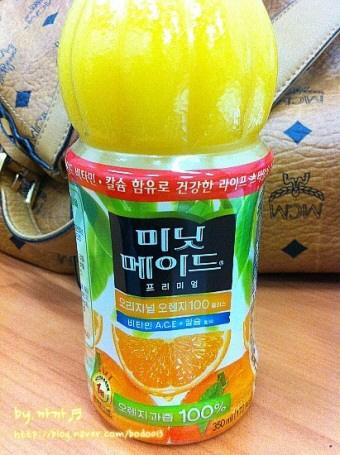minutemaid_org_orange: (59, 0, 282, 446)
